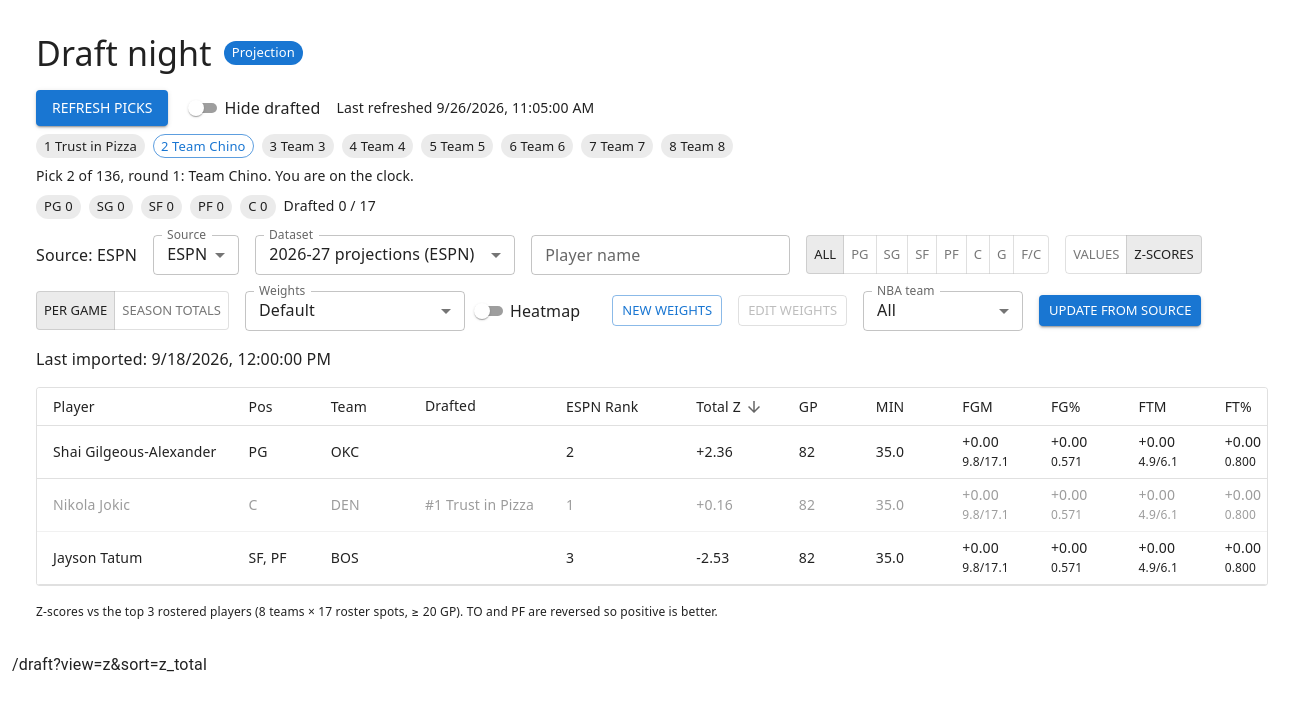
Test: shows the Weights select on first render with the saved collections
Expected: the text "Nikola Jokic" is shown, [37,479,232,532]
Expected: the button "New weights" is shown, [612,295,722,326]
Press the mouse on the dropdown named "weights": (287, 310) [259,299,315,321]
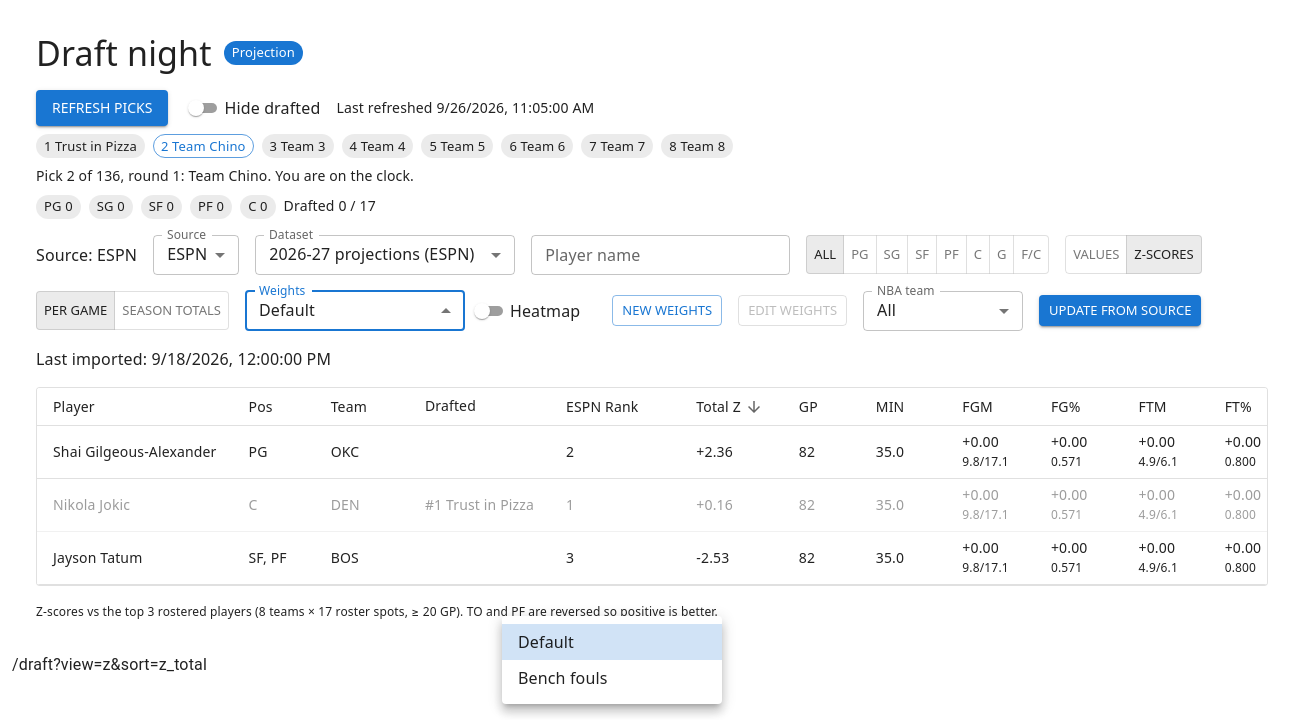
Result: the options read "Default", "Bench fouls", in this order at [502,624,722,660]; [518,667,608,689]
